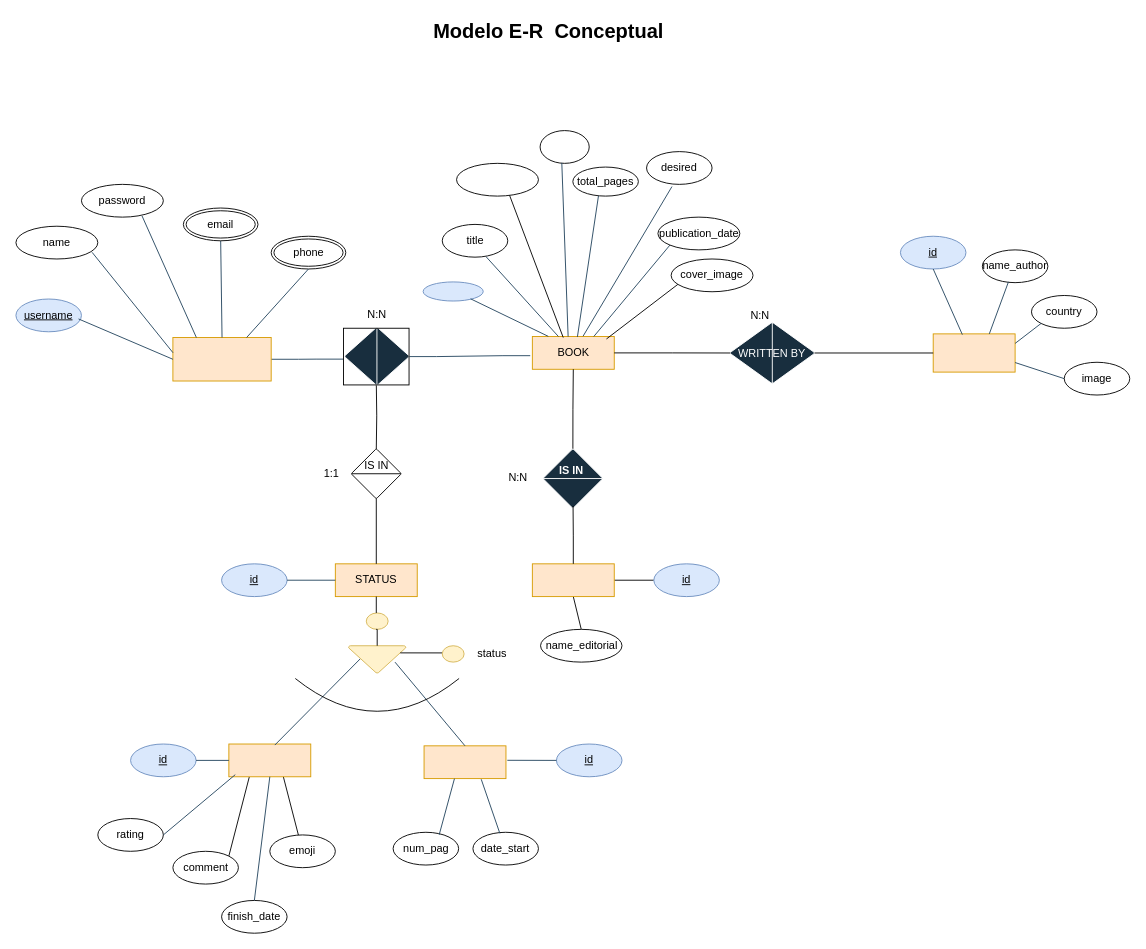
This 1146x949 diagram has some shape labels left out. Here are the shapes that lost their labels. From the top down, the box of each, then its label:
(539, 130, 589, 163): category
(456, 162, 538, 196): purchased
(422, 281, 483, 301): isbn
(172, 337, 271, 381): USER
(344, 327, 409, 385): READING
(932, 333, 1015, 372): AUTHOR
(531, 563, 614, 597): EDITORIAL
(228, 743, 311, 777): FINISHED
(423, 745, 506, 779): PROCESS
